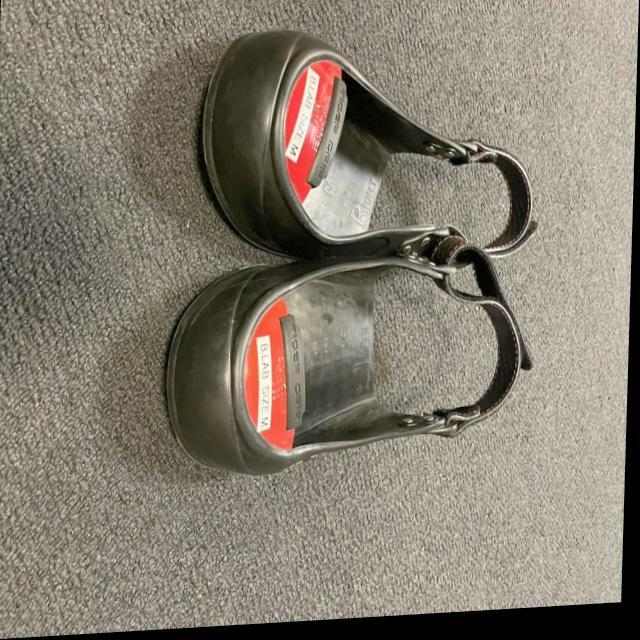shoes: (192, 25, 541, 266), (150, 263, 536, 473)
